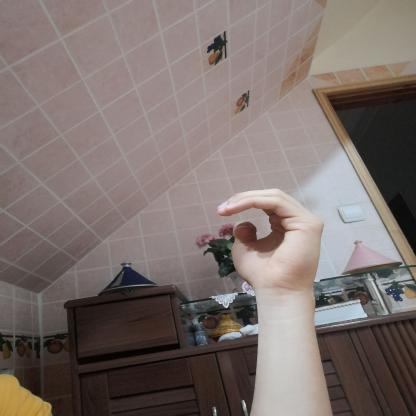JEEM: (201, 178, 336, 303)
